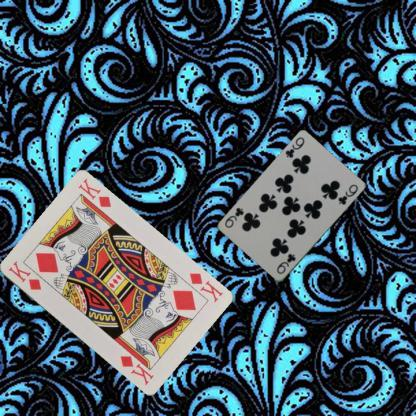9c: (283, 134, 306, 160), (274, 251, 297, 276)
Kd: (5, 258, 43, 292), (186, 270, 224, 304)
